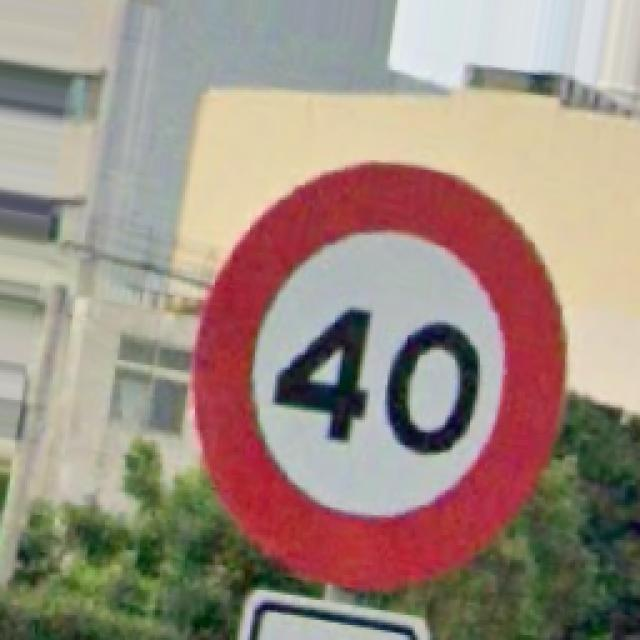Speed Limit -40-: (195, 162, 565, 588)
